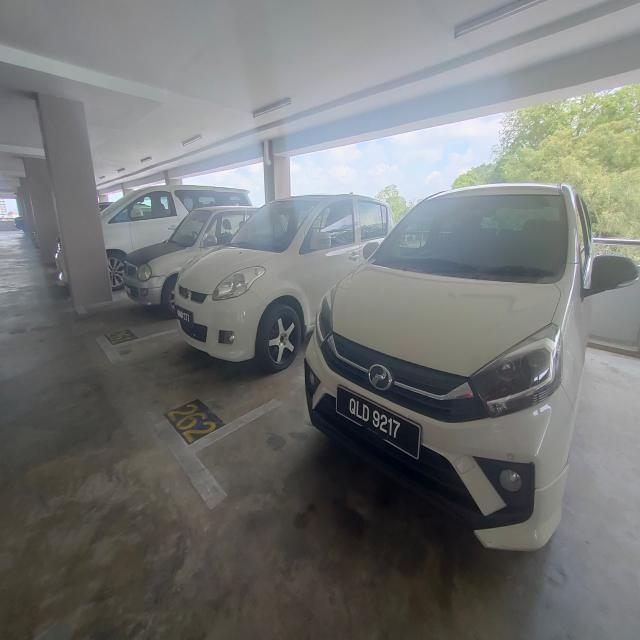PeroduaMyvi: (312, 156, 592, 555), (166, 192, 392, 364)
